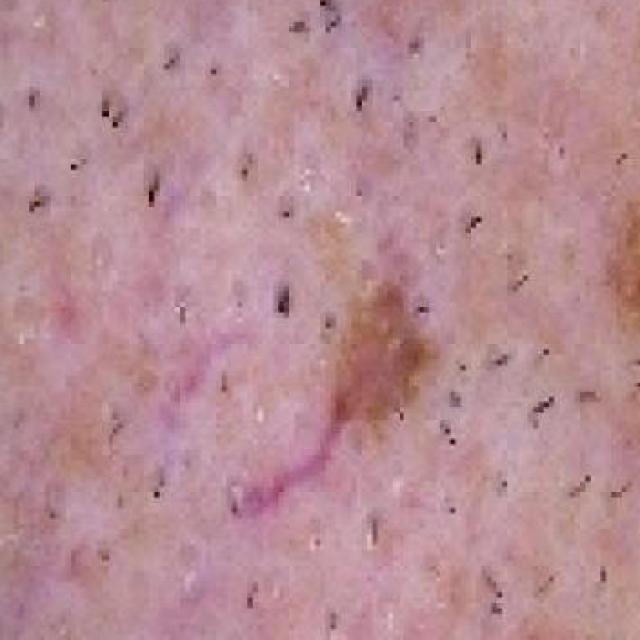BKL: (171, 150, 571, 613)
